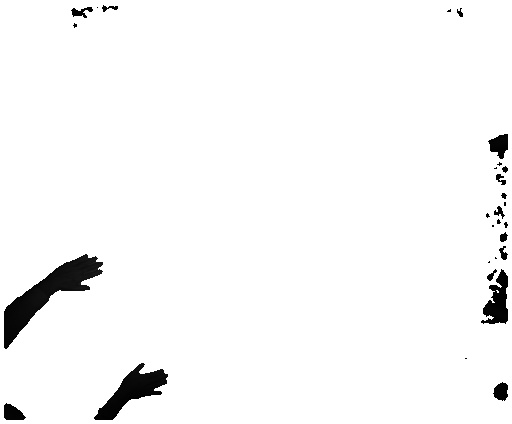hand: (54, 248, 103, 295), (119, 360, 167, 402)
